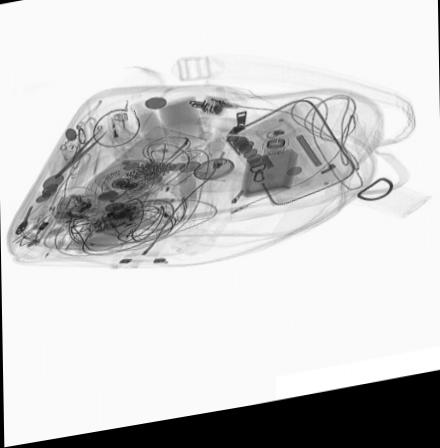Lighter: (107, 117, 135, 166)
